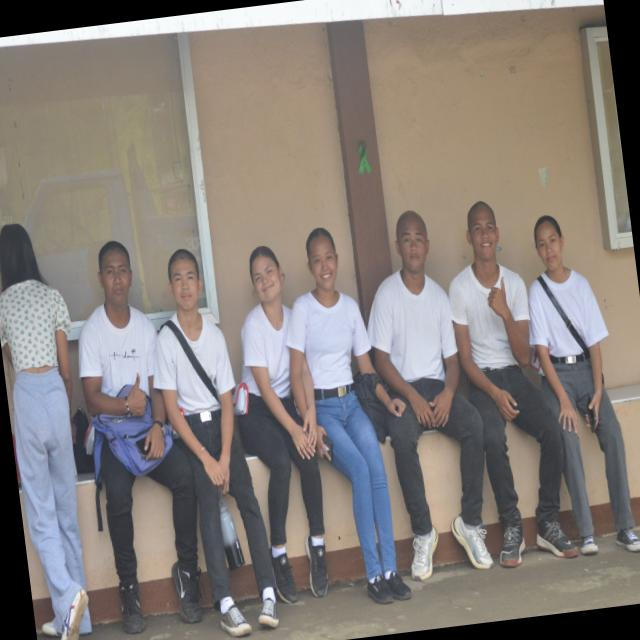person: (155, 250, 279, 636), (449, 202, 578, 567), (79, 241, 202, 623), (287, 228, 411, 603), (368, 211, 493, 580), (0, 224, 91, 639), (529, 216, 639, 554), (238, 246, 328, 603)
